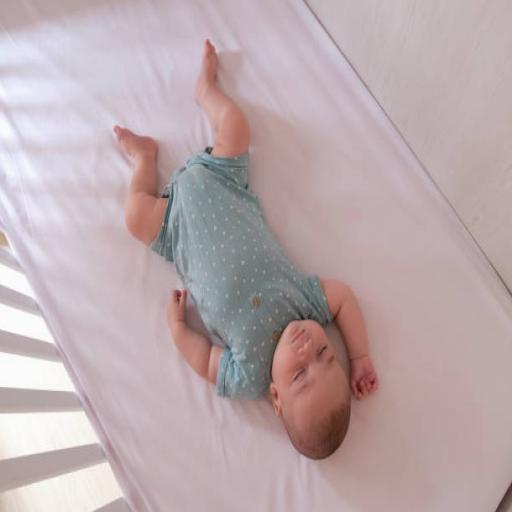baby: (115, 41, 378, 459)
crib: (0, 0, 511, 510)
